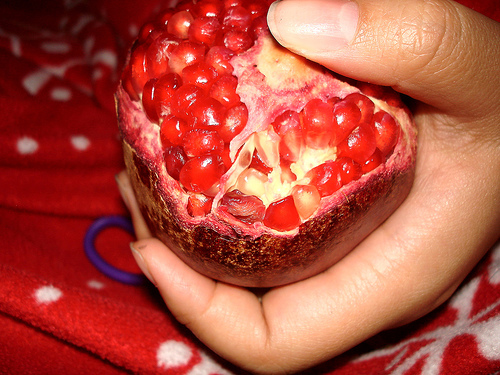pomogranate: (106, 0, 424, 296)
